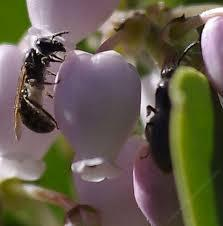Lasioglossum: (6, 27, 79, 149), (148, 40, 185, 176)
